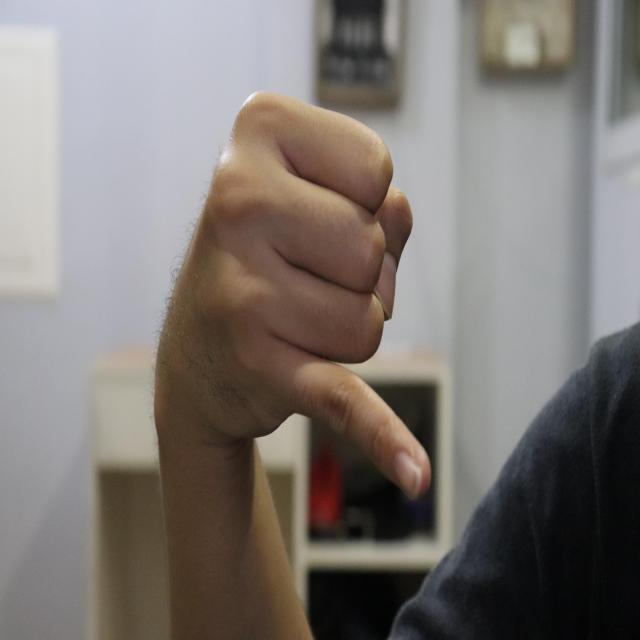J: (154, 89, 433, 502)
